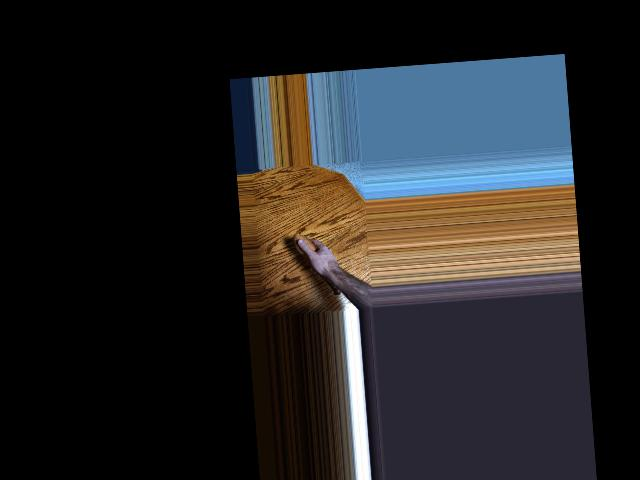sweet_potato: (293, 229, 344, 300)
